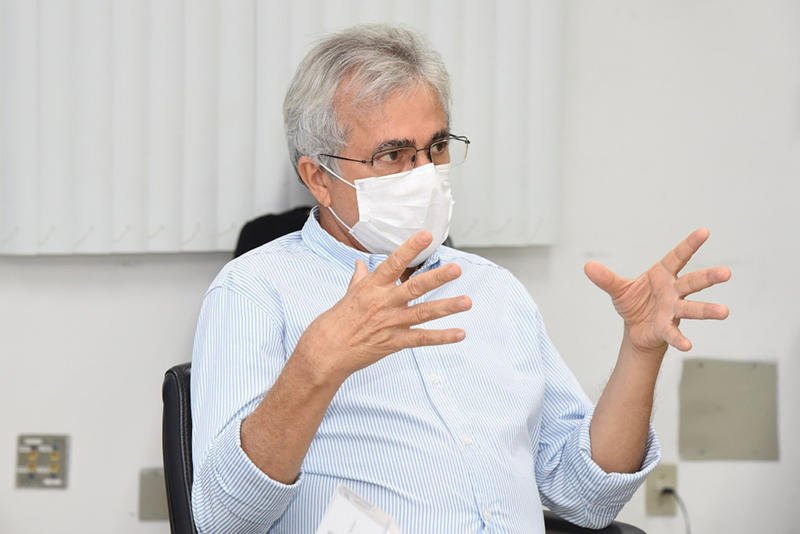with_mask: (322, 91, 448, 231)
